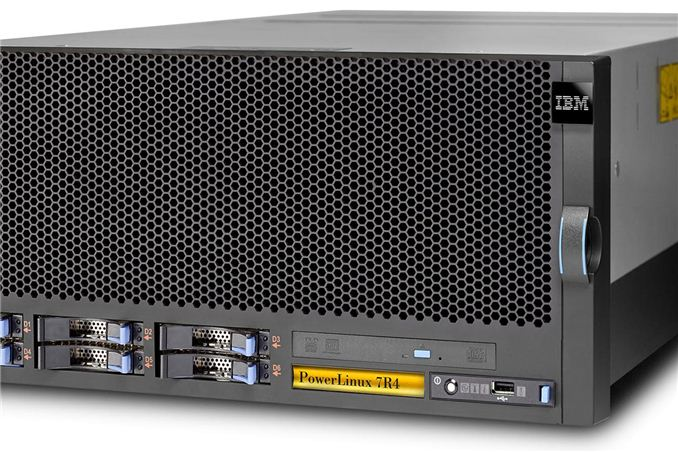ibm-server: (5, 30, 628, 434)
